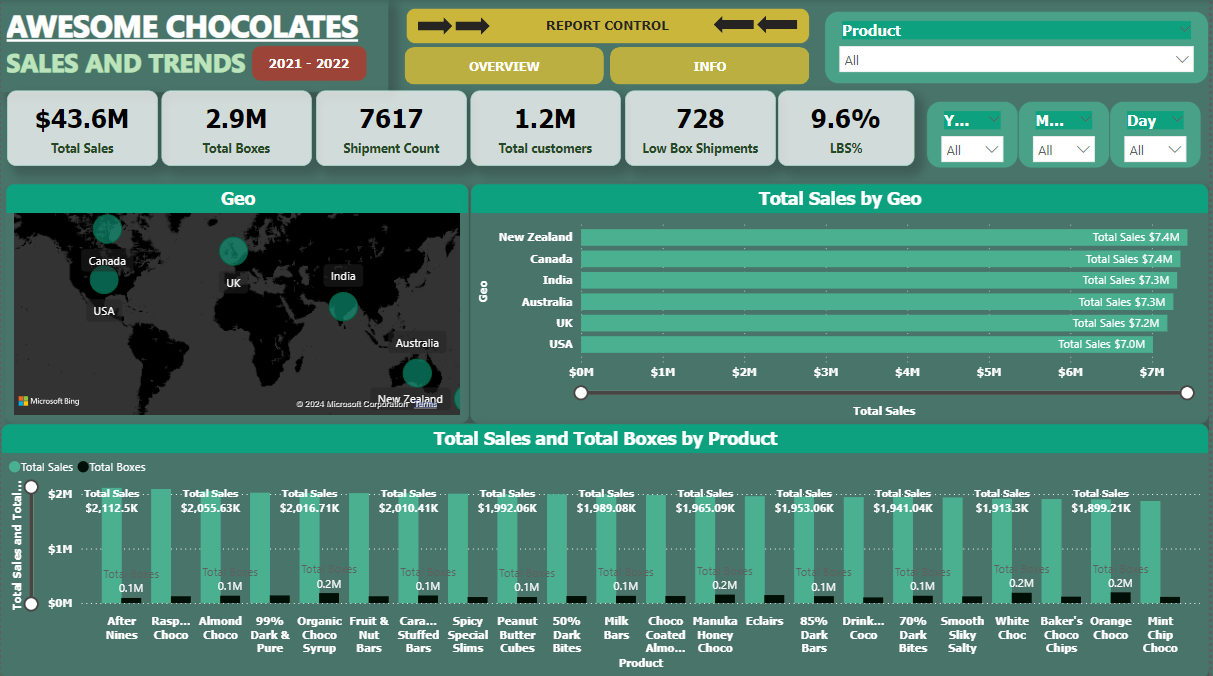

The page's visual inventory and layout, read from the dashboard file:
{"tool":"powerbi","page":{"name":"Page 1","canvas":[1280,720],"ordinal":0},"visuals":[{"type":"textbox","box":[0,0,410.4,98.6],"z":0},{"type":"textbox","box":[265.6,49.3,122.5,38.2],"z":1000},{"type":"card","fields":{"Values":["sales.Total Sales"]},"box":[6.8,96.6,160,80],"z":2000},{"type":"card","fields":{"Values":["sales.Total Boxes"]},"box":[169.8,96.5,159.1,80],"z":3000},{"type":"card","fields":{"Values":["sales.Shipment Count"]},"box":[333.8,96.5,160,80],"z":4000},{"type":"card","fields":{"Values":["sales.Total customers"]},"box":[497.2,96.5,159.1,80],"z":5000},{"type":"card","fields":{"Values":["sales.Low Box Shipments"]},"box":[661.9,96.5,160,80],"z":6000},{"type":"card","fields":{"Values":["sales.LBS%"]},"box":[824.6,96.9,144.6,80],"z":7000},{"type":"actionButton","box":[427.9,50.5,211.6,39.8],"z":11000},{"type":"actionButton","box":[645.8,50.5,211.6,39.8],"z":12000},{"type":"textbox","box":[429.5,9.5,427.9,38.2],"z":13000},{"type":"shape","box":[442.2,19.1,36.6,19.1],"z":14000},{"type":"shape","box":[482,19.1,36.6,19.1],"z":15000},{"type":"shape","box":[801.7,17.5,42.9,19.1],"z":16000},{"type":"shape","box":[755.5,17.5,42.9,19.1],"z":17000},{"type":"slicer","fields":{"Values":["Query2.Year"]},"box":[981.7,108.9,97,71.6],"z":18000},{"type":"slicer","fields":{"Values":["Query2.Month"]},"box":[1078.4,108.8,97,71.6],"z":19000},{"type":"slicer","fields":{"Values":["Query2.Day"]},"box":[1175.4,108.8,97,71.6],"z":20000},{"type":"slicer","fields":{"Values":["products.Product"]},"box":[872.9,12.9,407.1,77.1],"z":21000},{"type":"tableEx","fields":{"Values":["people.Salesperson","sales.Total Boxes","sales.Total Sales","sales.LBS%"]},"box":[5,195,508.3,525],"z":23000},{"type":"clusteredColumnChart","fields":{"Category":["people.Team"],"Y":["sales.Total Sales"]},"box":[529.7,195.6,750.8,524.9],"z":24000}]}

Visuals, with their boxes in screenshot pixels (x1, y1, x2, y2), scaled from the page's 1280x720 canvas onto the 1213x676 screenshot:
textbox: box(0, 0, 389, 93)
textbox: box(252, 46, 368, 82)
card - sales.Total Sales: box(6, 91, 158, 166)
card - sales.Total Boxes: box(161, 91, 312, 166)
card - sales.Shipment Count: box(316, 91, 468, 166)
card - sales.Total customers: box(471, 91, 622, 166)
card - sales.Low Box Shipments: box(627, 91, 779, 166)
card - sales.LBS%: box(781, 91, 918, 166)
actionButton: box(406, 47, 606, 85)
actionButton: box(612, 47, 813, 85)
textbox: box(407, 9, 813, 45)
shape: box(419, 18, 454, 36)
shape: box(457, 18, 491, 36)
shape: box(760, 16, 800, 34)
shape: box(716, 16, 757, 34)
slicer - Query2.Year: box(930, 102, 1022, 169)
slicer - Query2.Month: box(1022, 102, 1114, 169)
slicer - Query2.Day: box(1114, 102, 1206, 169)
slicer - products.Product: box(827, 12, 1212, 84)
tableEx - people.Salesperson x sales.Total Boxes: box(5, 183, 486, 675)
clusteredColumnChart - people.Team x sales.Total Sales: box(502, 184, 1212, 675)
